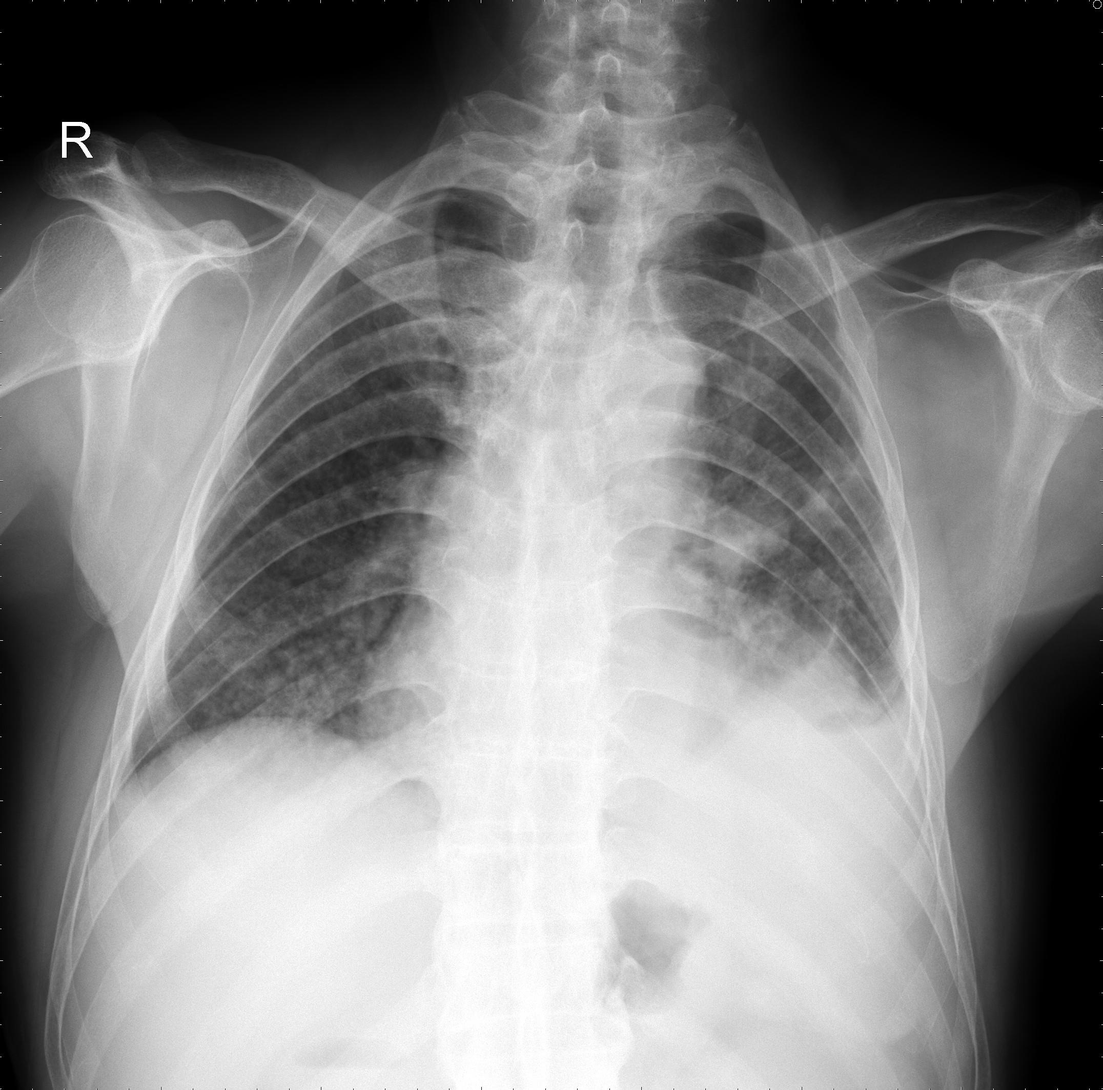Pulmonary fibrosis: (795, 457, 864, 516)
